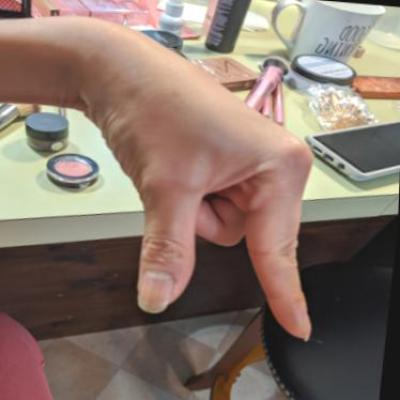hand: (53, 12, 353, 346)
